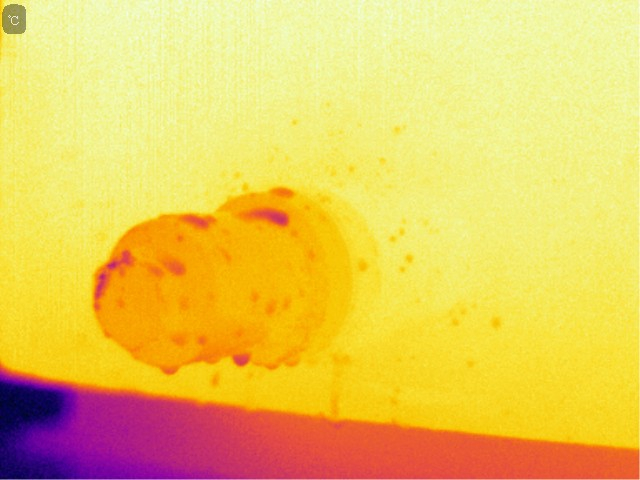Water: (235, 206, 294, 231), (176, 211, 220, 233), (157, 251, 192, 276), (229, 348, 254, 369), (280, 351, 305, 371), (157, 362, 184, 378), (202, 370, 226, 387), (262, 297, 281, 316), (265, 184, 292, 197), (201, 355, 228, 367), (263, 353, 280, 372), (146, 263, 164, 279)
